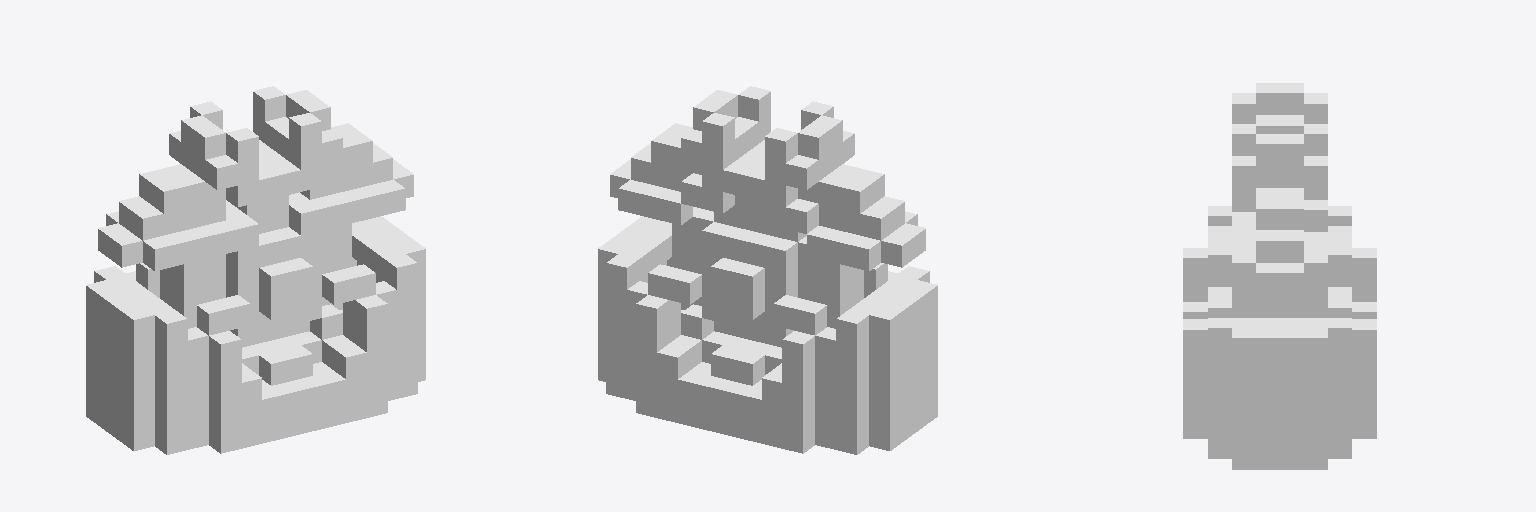
The model's file is Laser.obj.
The picture shows the model from 3 angles: view 1: azimuth 30°, elevation 25°; view 2: azimuth 150°, elevation 25°; view 3: azimuth 270°, elevation 25°; orthographic projection.
Visible parts, largest first — view 1: object 1; view 2: object 1; view 3: object 1.
Part boxes in pixels (left/top/right/bottom): object 1: left=86, top=86, right=425, bottom=454; object 1: left=598, top=86, right=937, bottom=454; object 1: left=1183, top=83, right=1376, bottom=469.
Size of the model in its own units: 1.4 by 1.3 by 0.8.